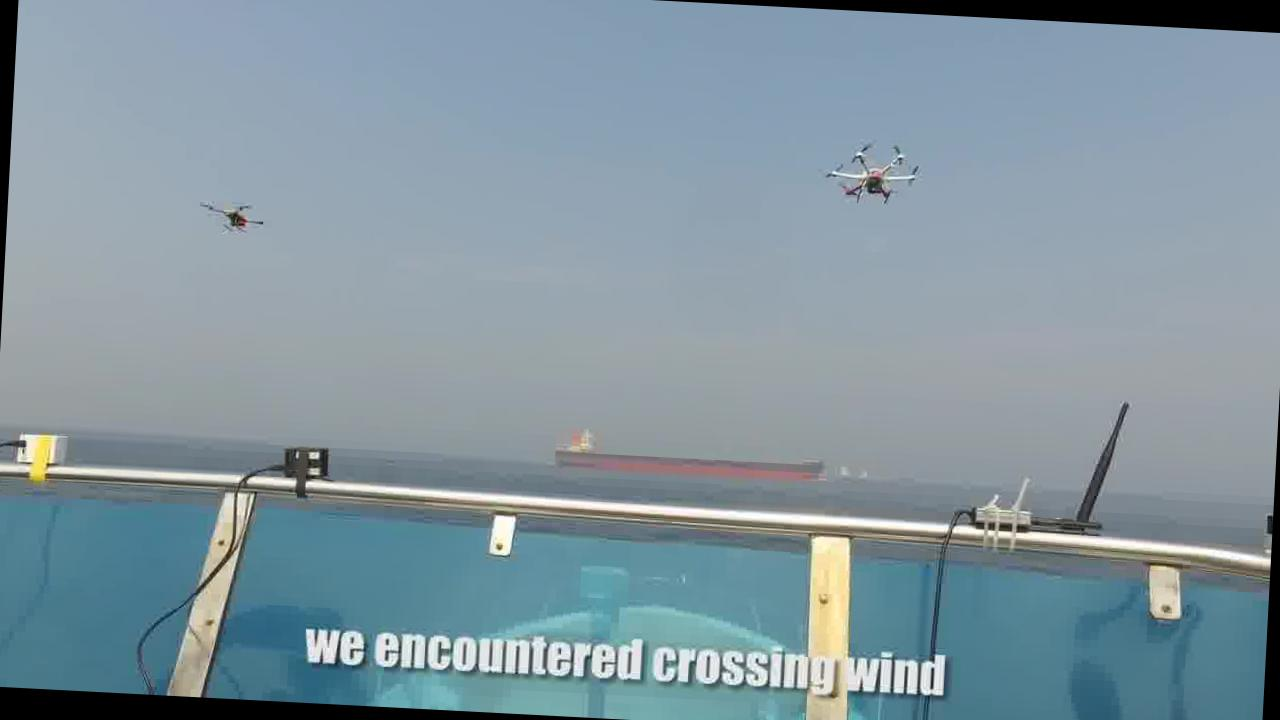drone: (821, 137, 914, 204), (198, 195, 268, 236)
